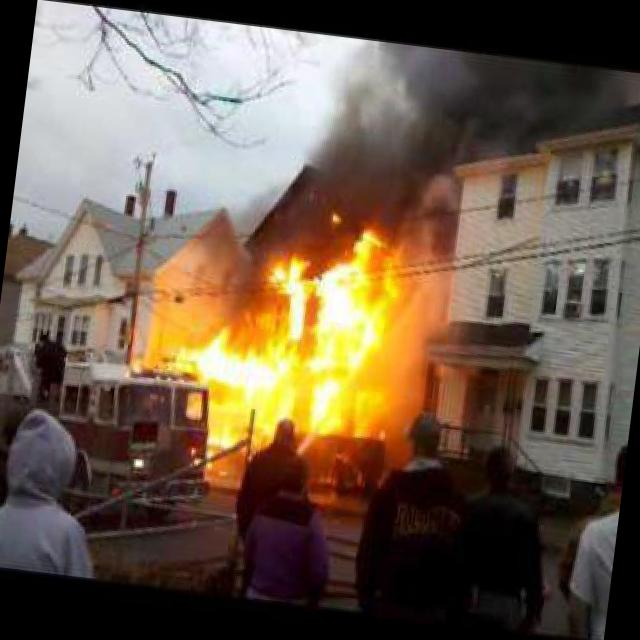Fire: (182, 203, 420, 464)
Smoke: (294, 6, 591, 245)
